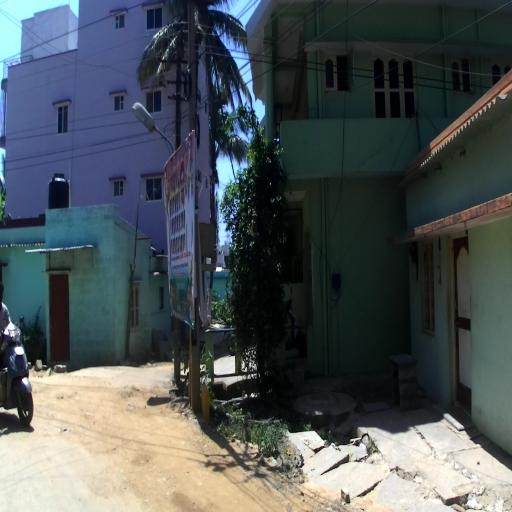street_light_0: (132, 103, 175, 153)
